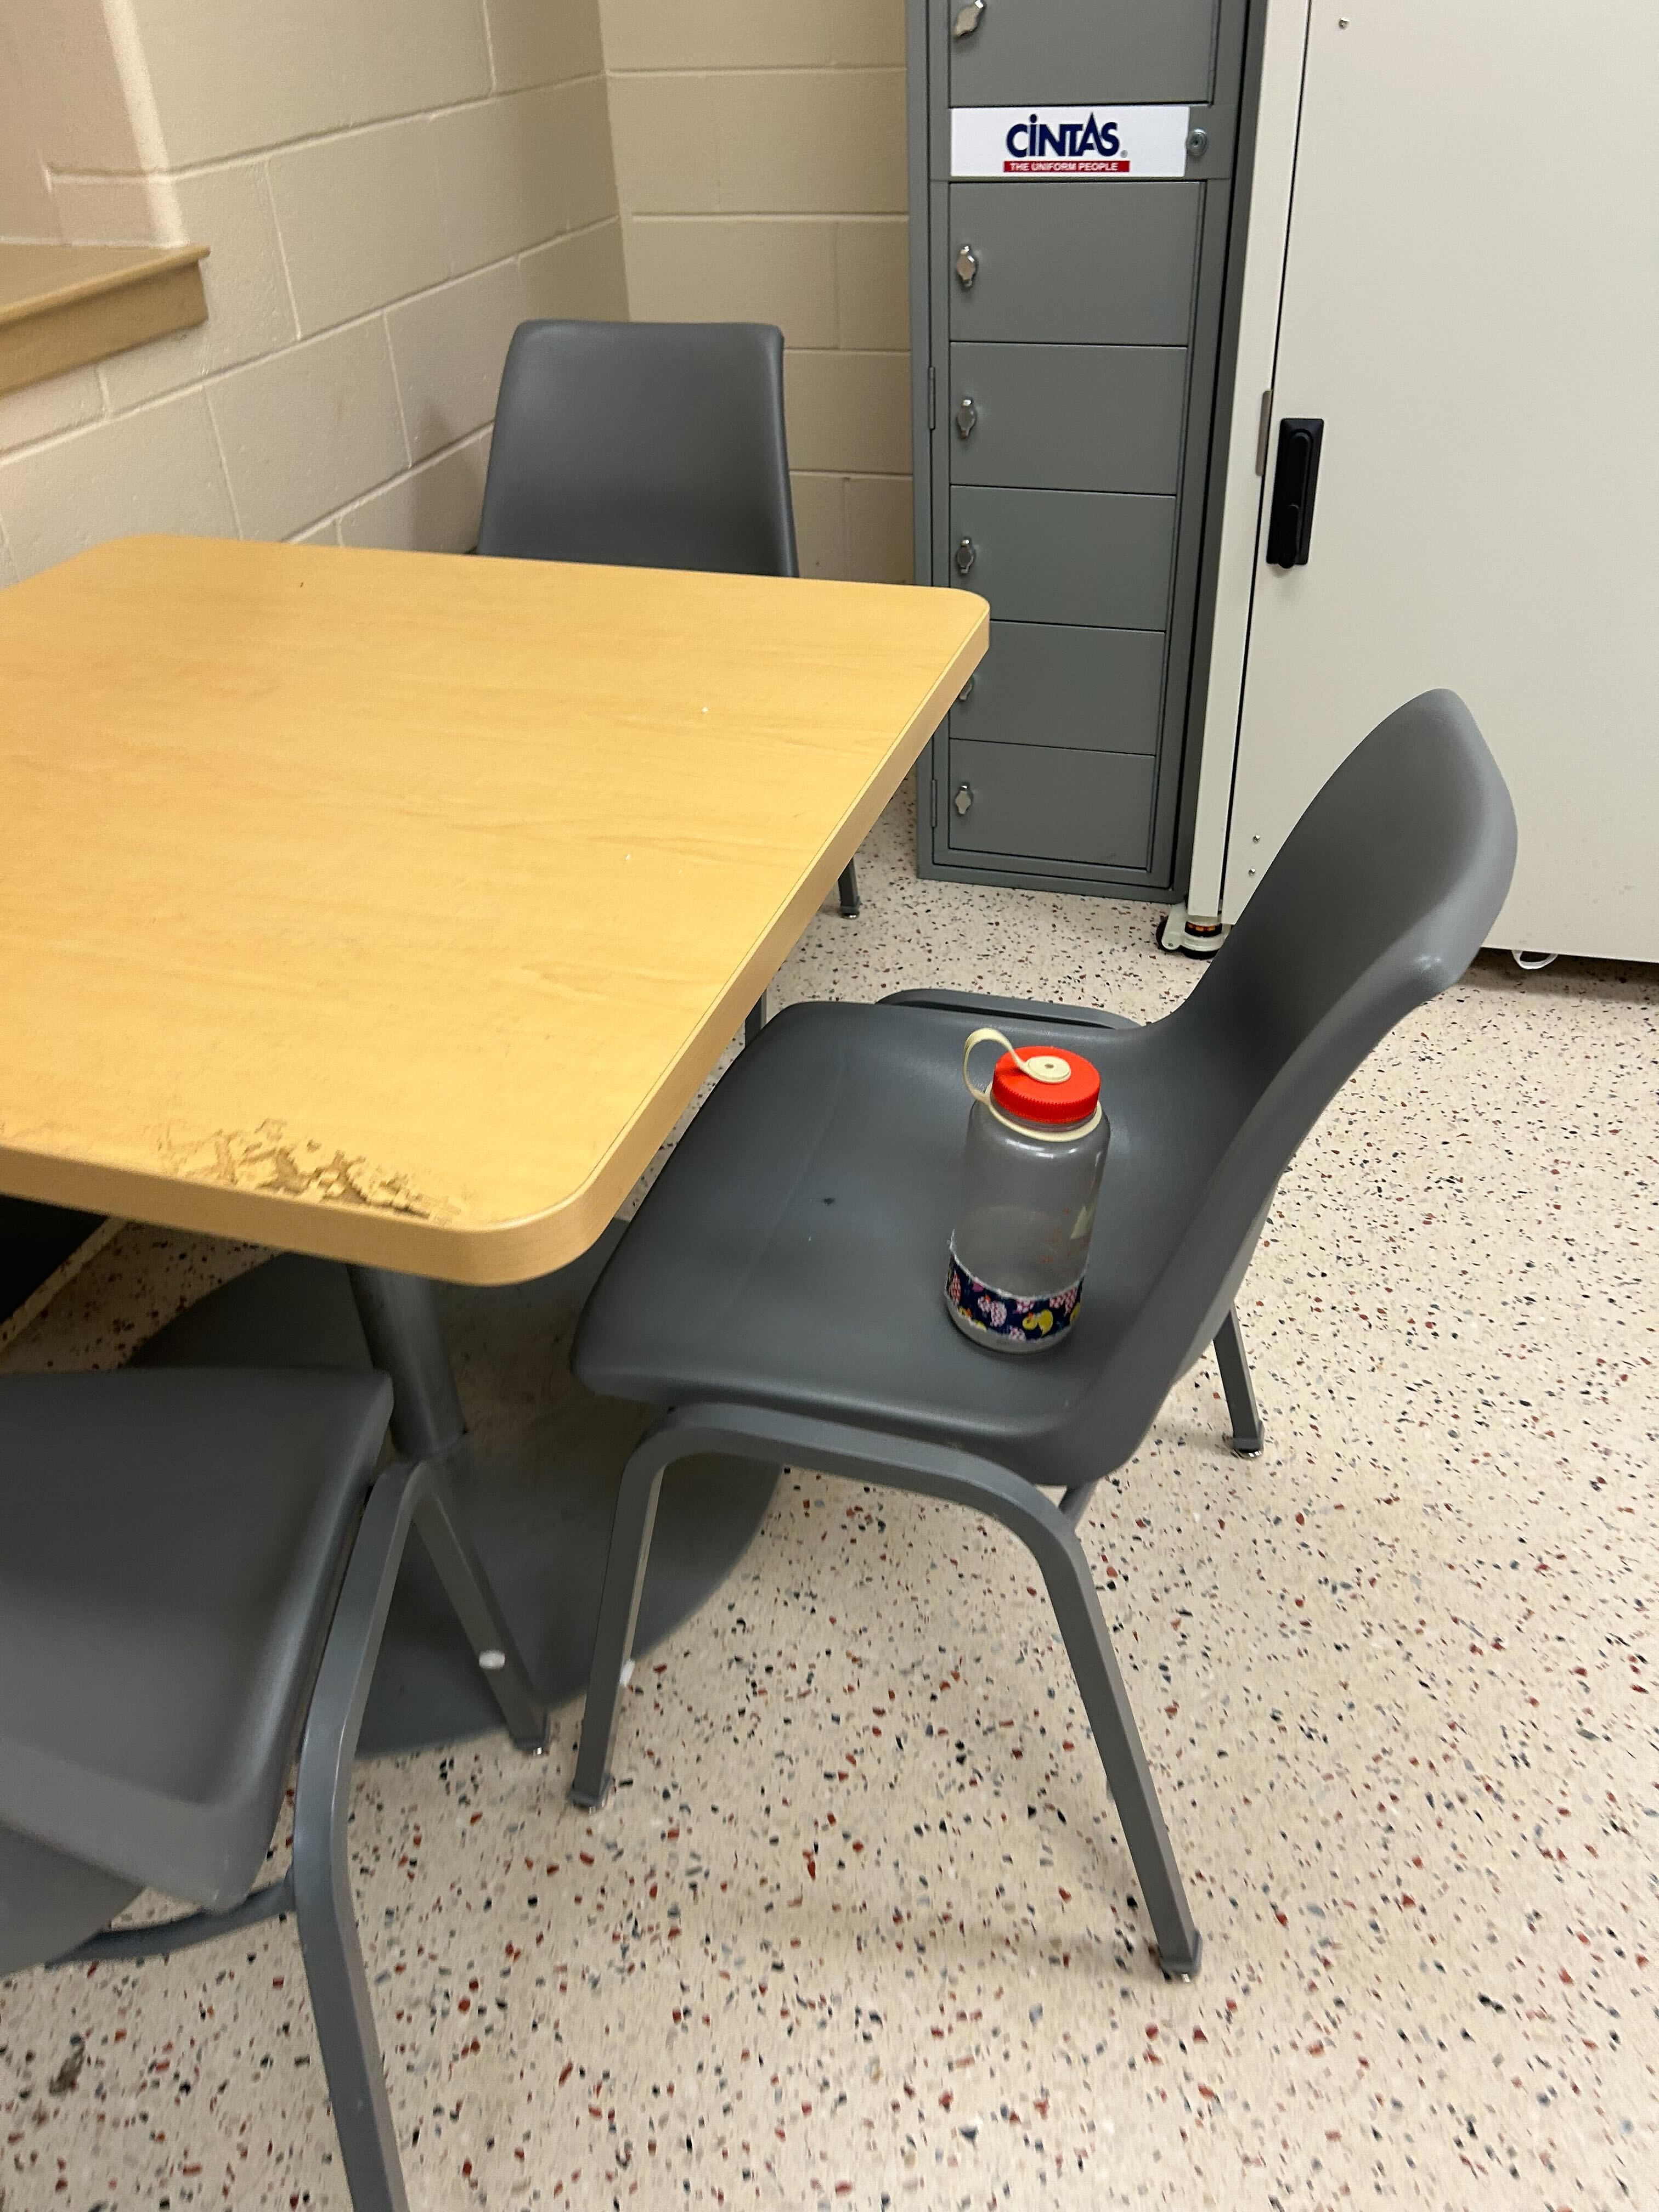bottle: (941, 1014, 1114, 1362)
